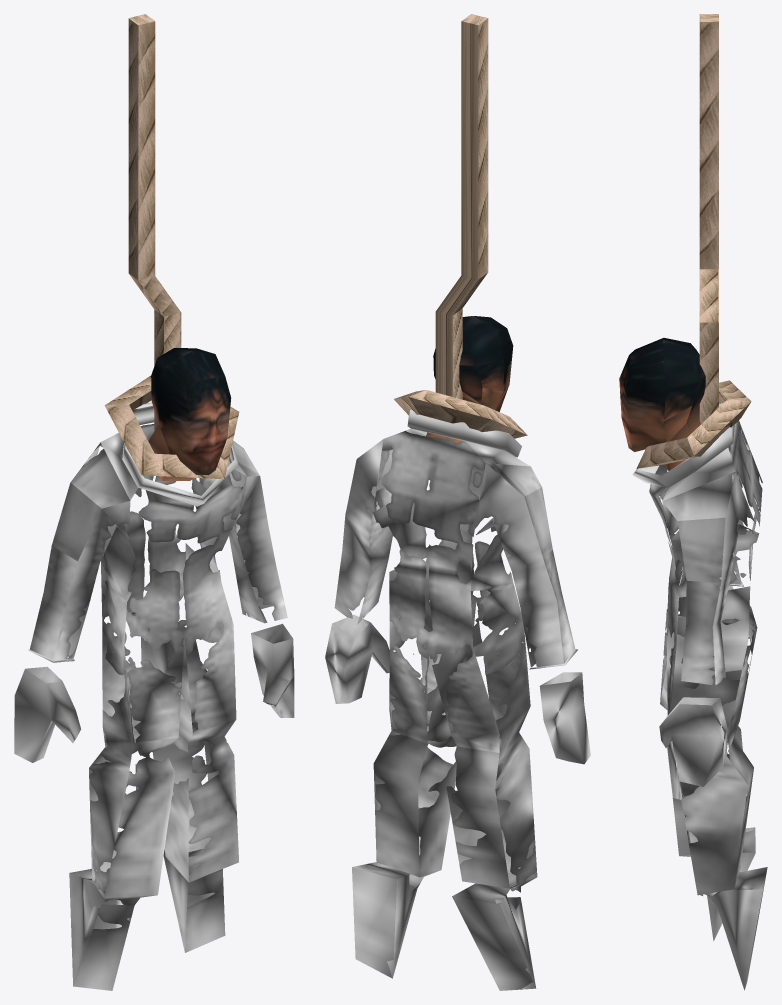
The model's file is Ashish.fbx.
3 views of the same model, side by side, from view 1: azimuth 30°, elevation 25°; view 2: azimuth 150°, elevation 25°; view 3: azimuth 270°, elevation 25° (orthographic). The views are drawn at different scales.
Visible parts, largest first — view 1: SpaceMan_Sketchfab.005, Cube, Cube.005, Torus; view 2: SpaceMan_Sketchfab.005, Cube, Cube.005, Torus; view 3: SpaceMan_Sketchfab.005, Cube.005, Cube, Torus.
Boxes of the visible parts, x1=… form: SpaceMan_Sketchfab.005: x1=14, y1=402, x2=294, y2=990; Cube: x1=128, y1=14, x2=181, y2=429; Cube.005: x1=148, y1=348, x2=231, y2=480; Torus: x1=104, y1=375, x2=239, y2=479; SpaceMan_Sketchfab.005: x1=325, y1=409, x2=590, y2=990; Cube: x1=435, y1=14, x2=488, y2=399; Cube.005: x1=426, y1=316, x2=513, y2=442; Torus: x1=394, y1=390, x2=527, y2=438; SpaceMan_Sketchfab.005: x1=632, y1=402, x2=767, y2=990; Cube.005: x1=619, y1=338, x2=705, y2=470; Cube: x1=699, y1=14, x2=718, y2=423; Torus: x1=636, y1=380, x2=751, y2=468.
Bounding box in the file's own units: 4.73 × 16.49 × 2.37.
